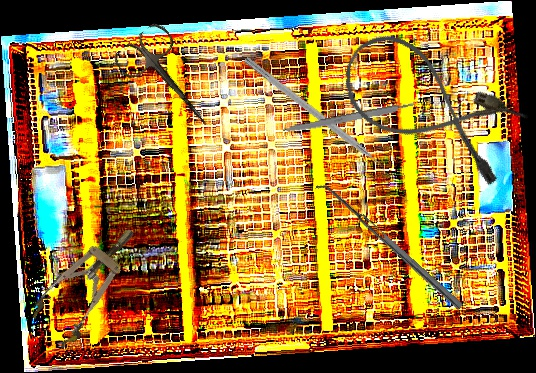Cannula: (326, 20, 534, 193)
Chopper: (237, 55, 394, 185)
Iris Scissors: (110, 19, 229, 145)
Scalpel Handle: (282, 101, 416, 136)
Spatula Surgical: (313, 178, 464, 316)
Speculum: (24, 213, 154, 352)
